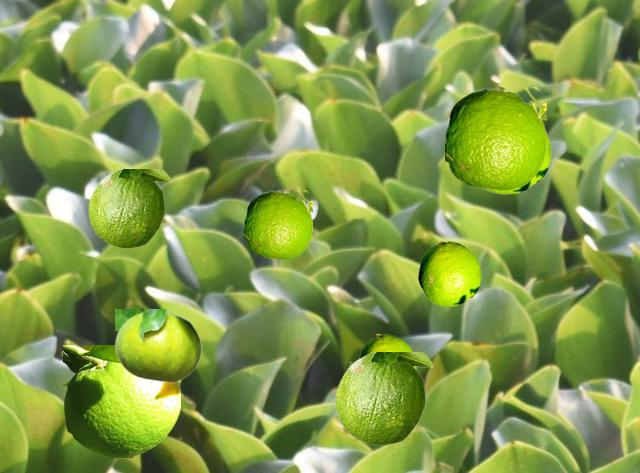dalandan: (63, 345, 179, 456), (445, 87, 545, 189), (335, 352, 432, 444), (88, 169, 170, 247), (115, 309, 201, 382), (244, 190, 311, 258), (486, 130, 550, 193), (418, 241, 480, 305), (359, 334, 415, 367)
